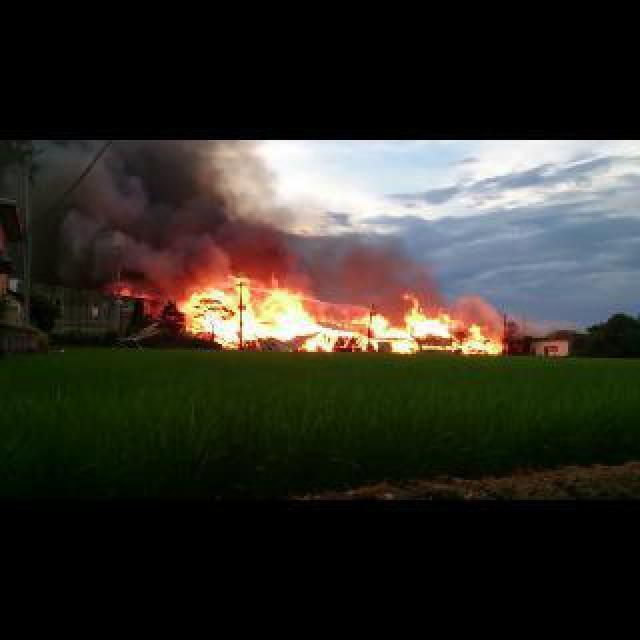fire: (58, 138, 314, 280), (172, 278, 500, 354), (120, 284, 150, 300), (504, 340, 510, 348)
